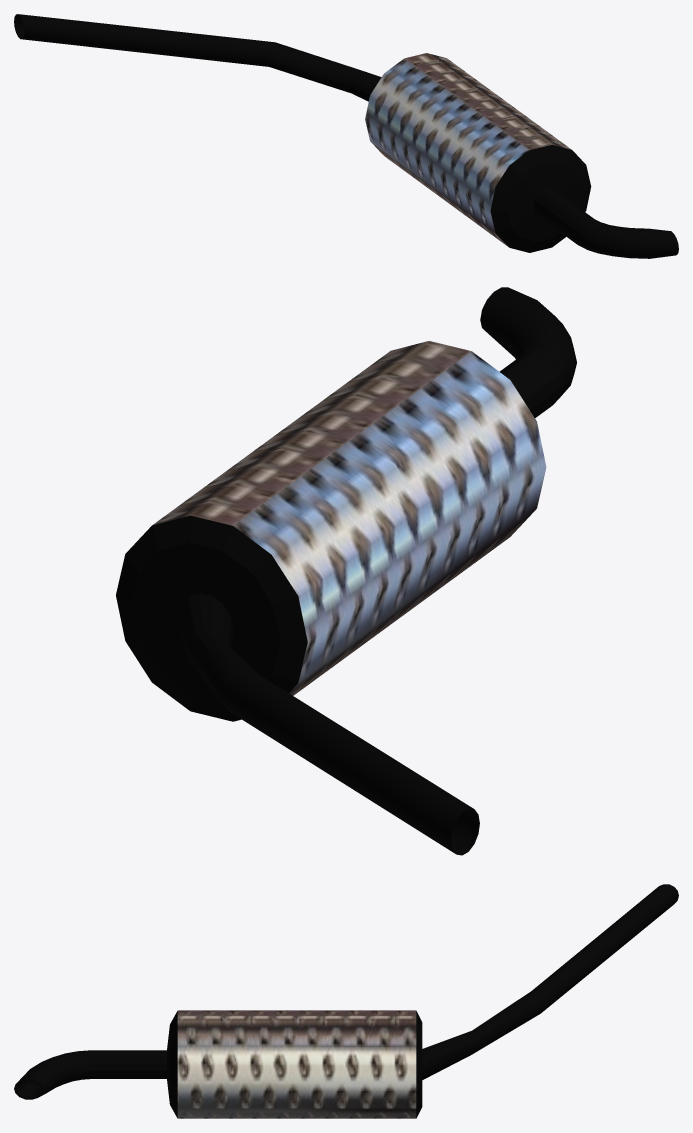
3 renders of one model, top to bottom at view 1: azimuth 30°, elevation 25°; view 2: azimuth 150°, elevation 25°; view 3: azimuth 270°, elevation 25°, orthographic. The views are drawn at different scales.
Parts seen in each view (by area): view 1: polySurface1; view 2: polySurface1; view 3: polySurface1.
Part boxes in pixels (x1,y1,x2,y2): polySurface1: (14, 14, 678, 258); polySurface1: (116, 287, 576, 855); polySurface1: (14, 884, 678, 1118).
Size of the model in its own units: 0.0357 by 0.0119 by 0.0673.
2 materials, 1 textured.
